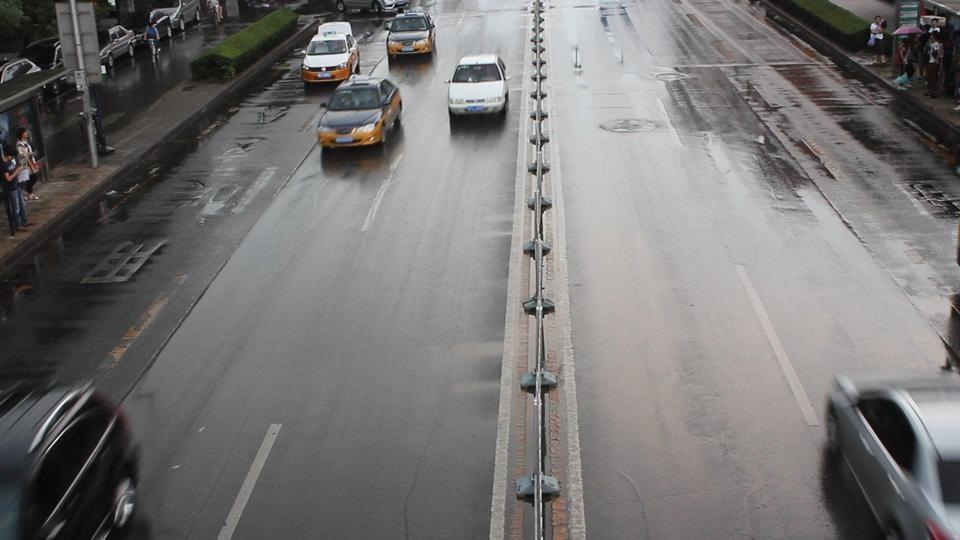car: (822, 367, 960, 536), (1, 378, 144, 537), (316, 76, 403, 148), (447, 54, 509, 117), (301, 22, 360, 85), (385, 10, 437, 58)
